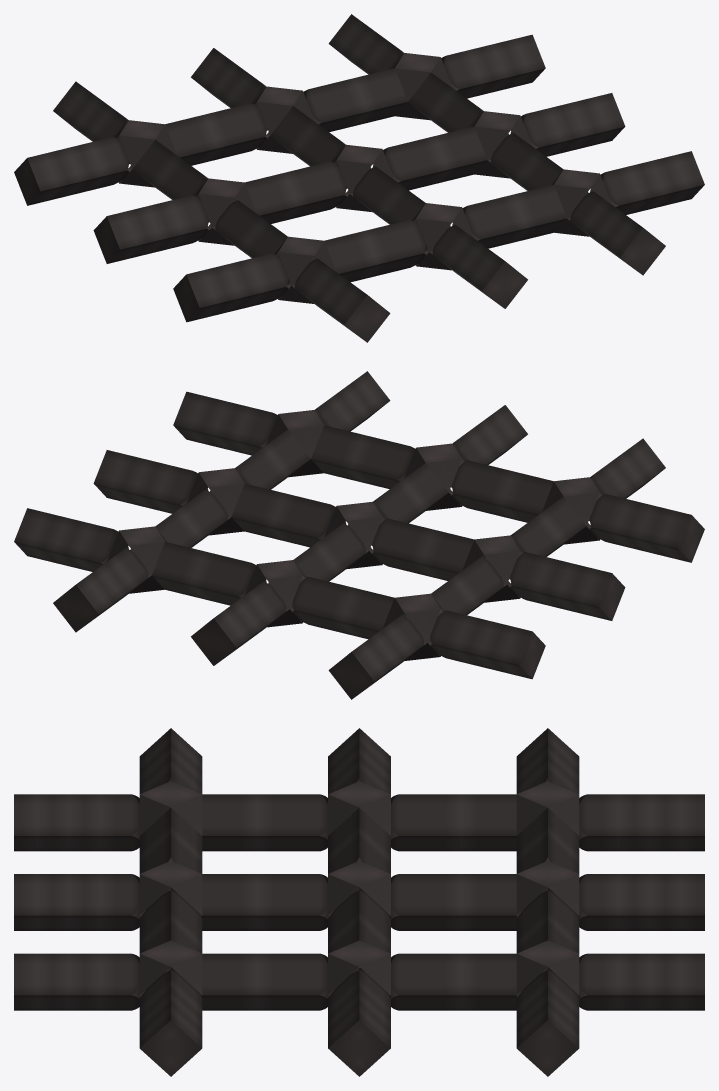
Rendered from Ceiling_2x2_Bars.fbx.
3 renders of one model, top to bottom at view 1: azimuth 30°, elevation 25°; view 2: azimuth 150°, elevation 25°; view 3: azimuth 270°, elevation 25°, orthographic. The views are drawn at different scales.
Parts seen in each view (by area): view 1: Ceiling_2x2_Bars; view 2: Ceiling_2x2_Bars; view 3: Ceiling_2x2_Bars.
Part boxes in pixels (box(x1,y1,x2,y2)): Ceiling_2x2_Bars: box(14, 14, 704, 342); Ceiling_2x2_Bars: box(14, 371, 704, 699); Ceiling_2x2_Bars: box(14, 728, 704, 1076).
Size of the model in its own units: 275 by 25 by 275.
Materials: 1 (1 with a texture image).
